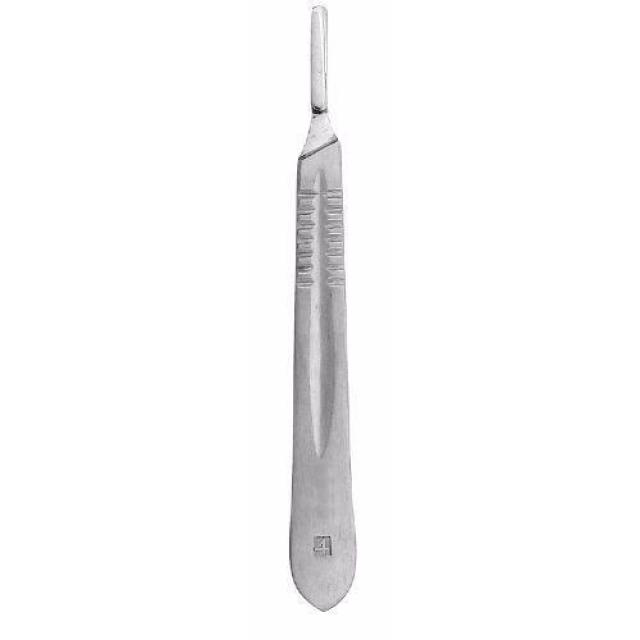B3: (286, 3, 358, 613)
